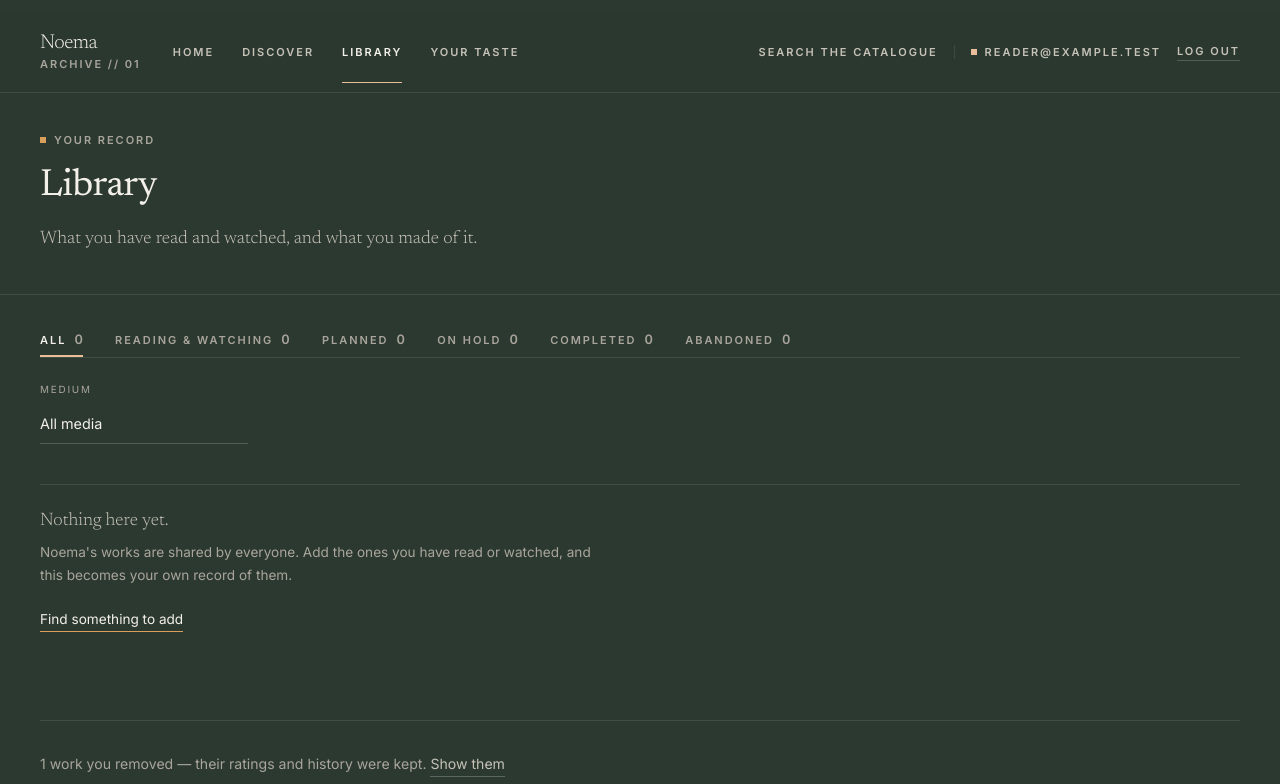
Library status organisation › never renders controls on a removed entry that the server refuses
The width and height of the screenshot is (1280, 784).
Click the button "Show them" at (468, 765), box [430,753,505,777]
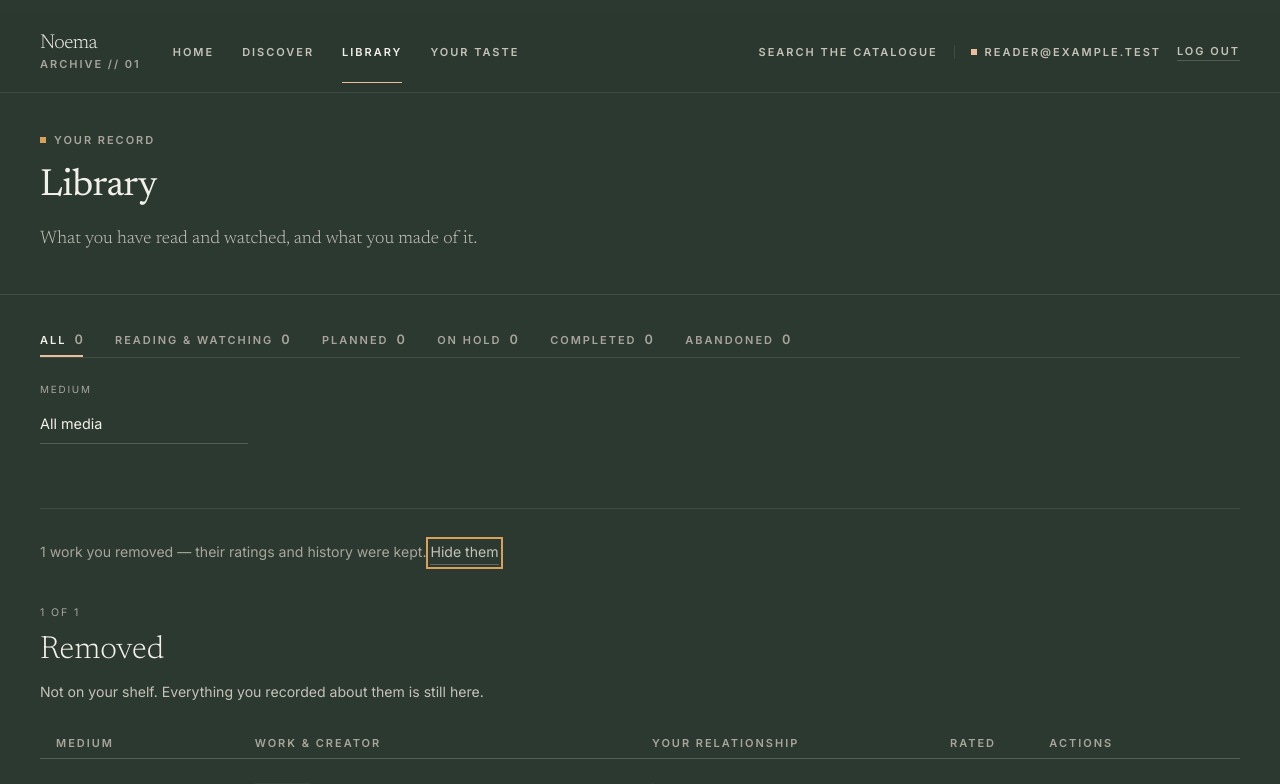
Check: the heading "Removed" is shown, box [40,634,164,666]
